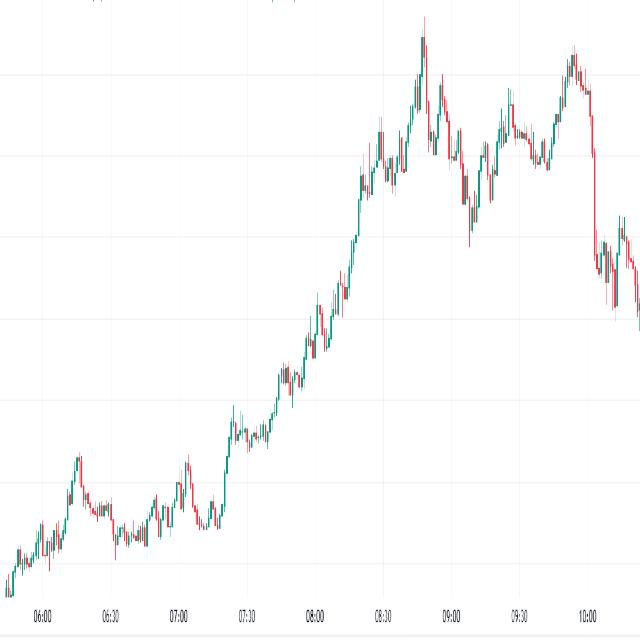Head-Shoulders: (349, 6, 472, 239)
